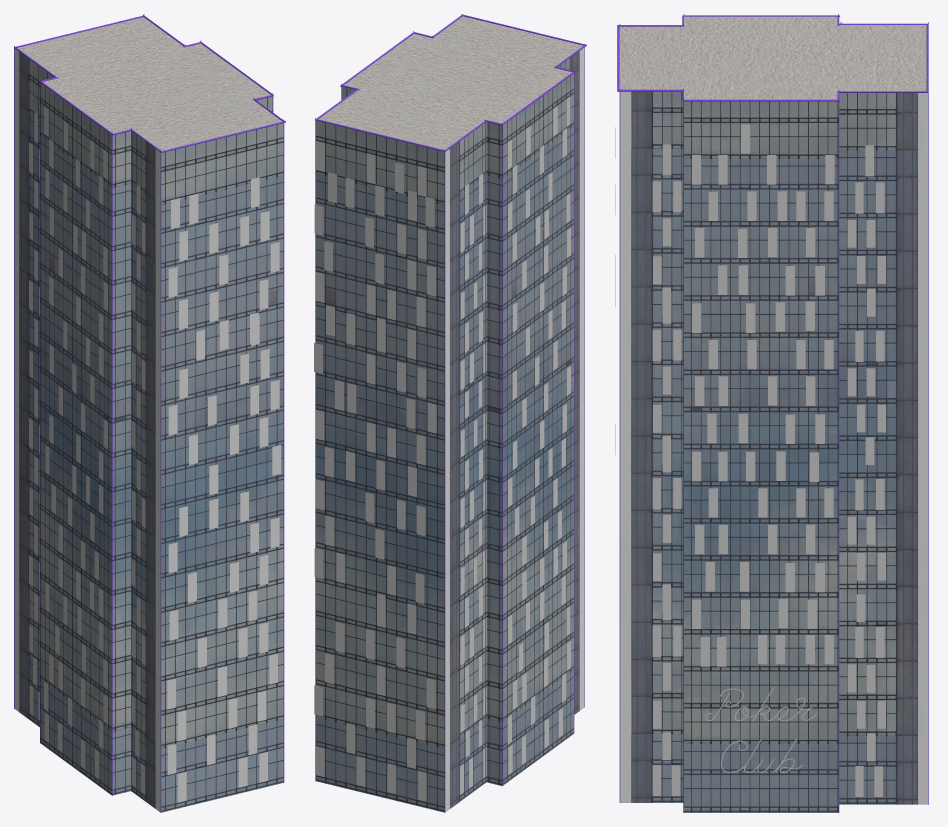
File: Building-2.fbx
3 renders of one model, left to right at view 1: azimuth 30°, elevation 25°; view 2: azimuth 150°, elevation 25°; view 3: azimuth 270°, elevation 25°, orthographic. The views are drawn at different scales.
Parts seen in each view (by area): view 1: building_004.001, Cylinder.044, Cylinder.043, Cylinder.038, Cylinder.041, Cylinder.042, Cylinder.040; view 2: building_004.001, Cylinder.038, Cylinder.041, Cylinder.039, Cylinder.040, Cylinder.043, Cylinder.049; view 3: building_004.001, Cylinder.048, Cylinder.044, Text, Cylinder.049, Cylinder.046.
Boxes of the visible parts, x1,y1,x2,y2 form: building_004.001: (14, 17, 283, 812); Cylinder.044: (283, 119, 284, 782); Cylinder.043: (160, 150, 161, 812); Cylinder.038: (14, 45, 14, 708); Cylinder.041: (112, 132, 112, 795); Cylinder.042: (131, 128, 131, 791); Cylinder.040: (40, 80, 40, 742); building_004.001: (316, 16, 584, 812); Cylinder.038: (444, 150, 445, 812); Cylinder.041: (573, 70, 574, 733); Cylinder.039: (485, 120, 485, 783); Cylinder.040: (502, 123, 502, 786); Cylinder.043: (584, 44, 584, 706); Cylinder.049: (315, 118, 315, 781); building_004.001: (620, 16, 927, 812); Cylinder.048: (838, 98, 839, 812); Cylinder.044: (619, 89, 620, 802); Text: (705, 687, 817, 772); Cylinder.049: (928, 90, 928, 804); Cylinder.046: (683, 98, 683, 812).
Bounding box in the file's own units: 1122 × 4334 × 1749.
5 materials, 2 textured.
